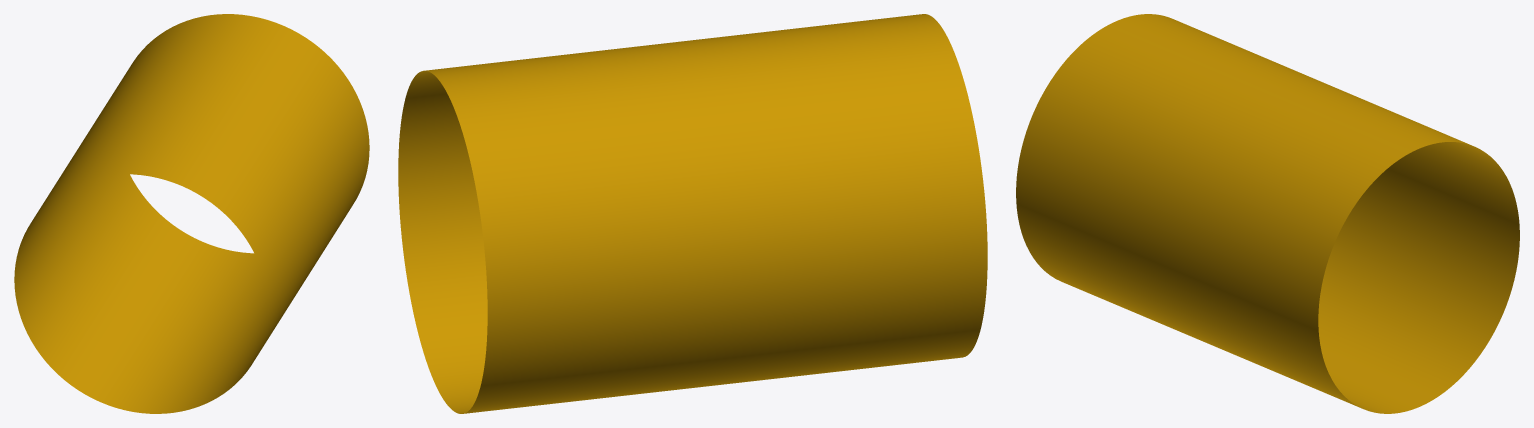
Rendered from pet.dae.
3 views of the same model, side by side, from view 1: azimuth 30°, elevation 25°; view 2: azimuth 150°, elevation 25°; view 3: azimuth 270°, elevation 25° (orthographic). The views are drawn at different scales.
Parts seen in each view (by area): view 1: pet-label; view 2: pet-label; view 3: pet-label.
Part boxes in pixels (x1,y1,x2,y2): pet-label: [14, 14, 369, 413]; pet-label: [398, 14, 987, 413]; pet-label: [1016, 14, 1519, 413].
Bounding box in the file's own units: 0.0513 × 0.0291 × 0.0513.
